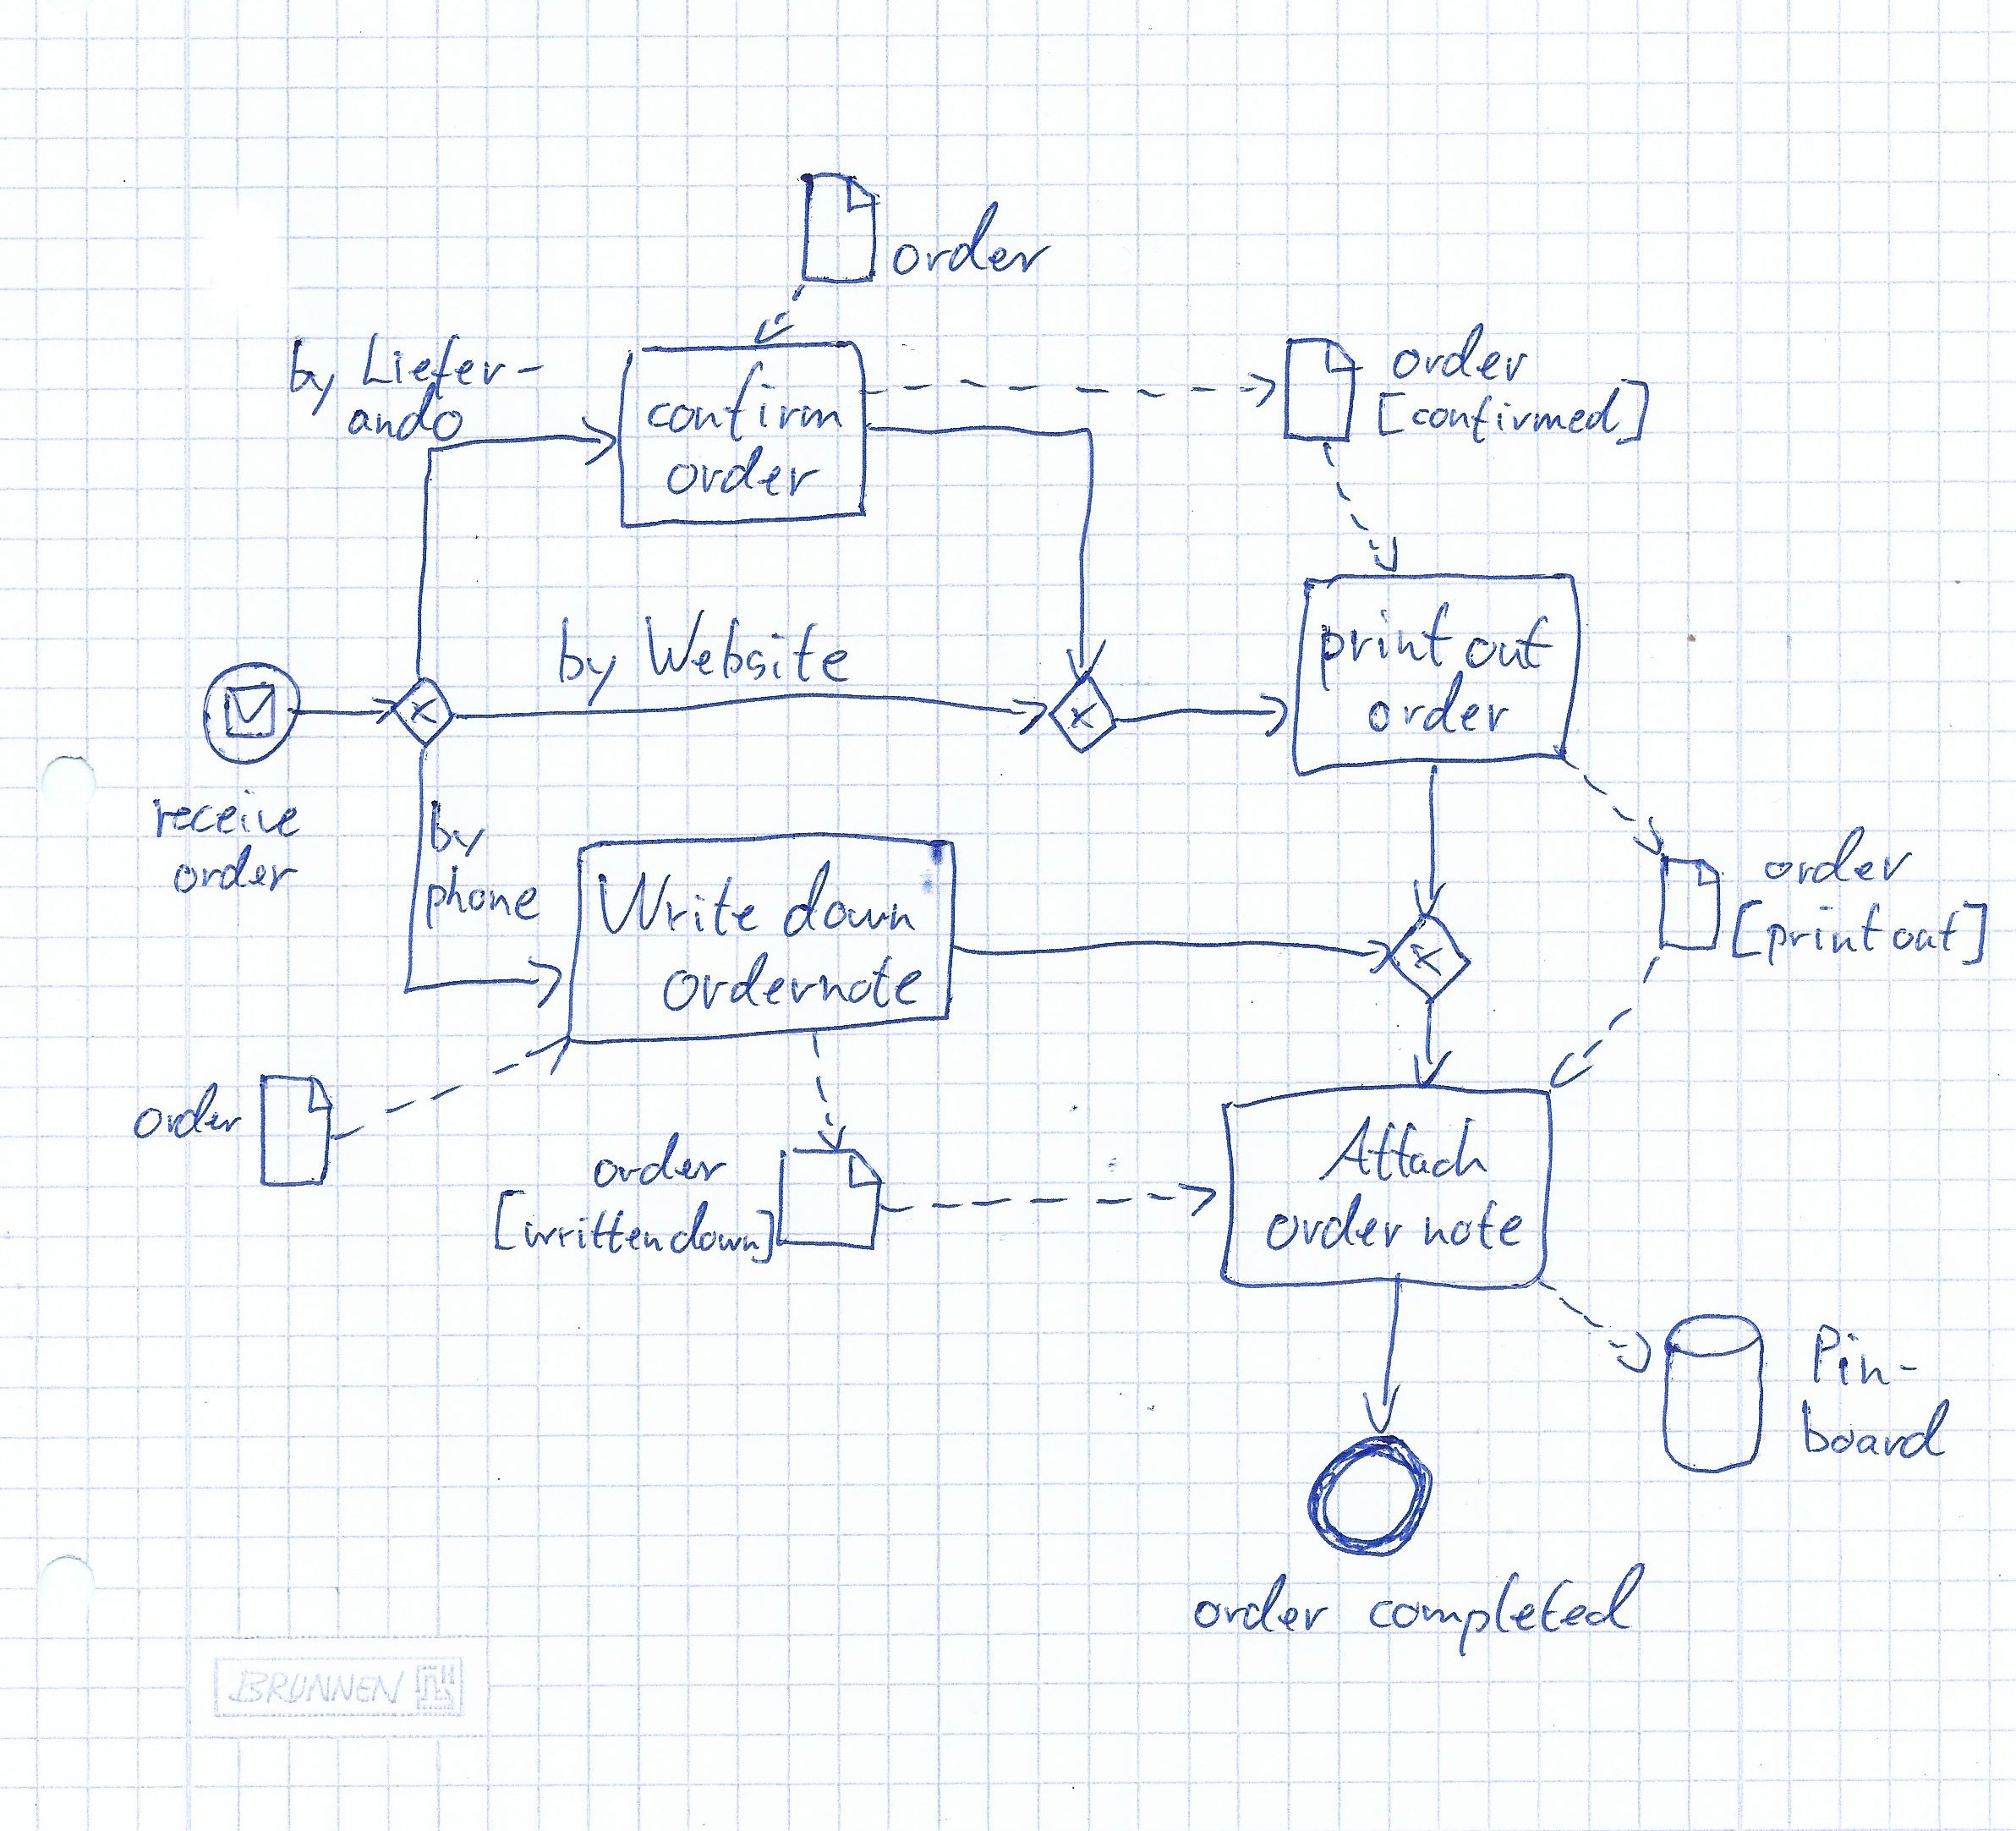Attach: (1315, 1113, 1494, 1185)
Liefer-ando: (344, 330, 548, 444)
Ordernote: (662, 953, 929, 1015)
Pin-: (1809, 1322, 1925, 1389)
Website: (641, 606, 855, 685)
Write: (595, 864, 766, 946)
[confirmed]: (1373, 376, 1658, 446)
[print: (1728, 895, 1884, 971)
[written: (481, 1187, 666, 1260)
board: (1800, 1394, 1951, 1464)
by: (553, 613, 622, 702), (276, 337, 344, 416), (428, 799, 492, 858)
completed: (1363, 1564, 1652, 1657)
confirm: (643, 360, 852, 441)
down: (780, 858, 917, 948)
down]: (669, 1201, 778, 1267)
note: (1419, 1197, 1528, 1253)
order: (894, 198, 1054, 284), (1366, 671, 1514, 739), (1763, 825, 1918, 888), (1191, 1573, 1335, 1640), (1391, 320, 1538, 384), (1263, 1194, 1410, 1257), (664, 444, 818, 504), (590, 1136, 727, 1188), (172, 843, 299, 899), (132, 1081, 246, 1143)
out: (1463, 606, 1558, 674)
out]: (1890, 895, 1988, 974)
phone: (420, 862, 548, 927)
print: (1314, 600, 1456, 692)
receive: (151, 786, 307, 843)
